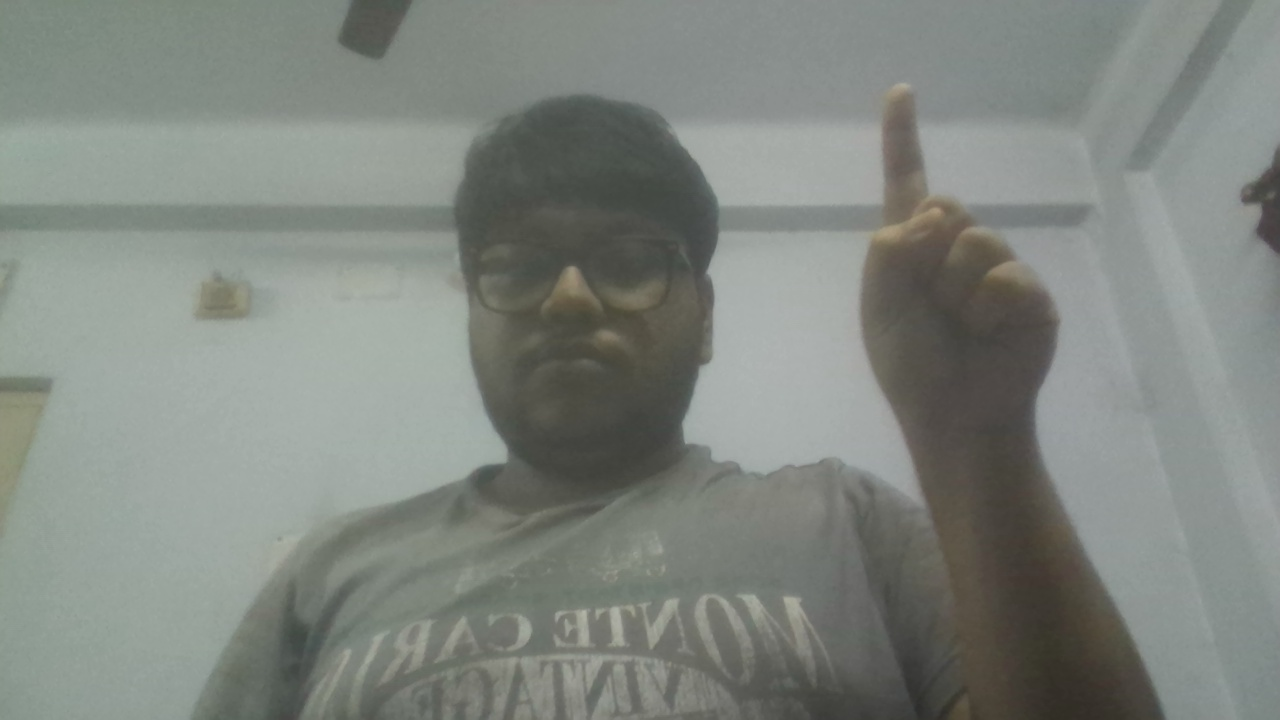Gesture1: (852, 73, 1068, 446)
